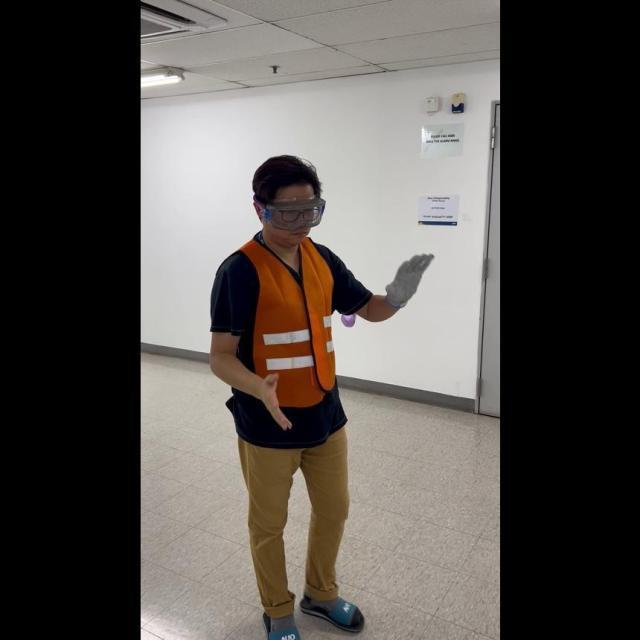bare_hand: (249, 368, 290, 435)
gloved_hand: (381, 247, 435, 309)
